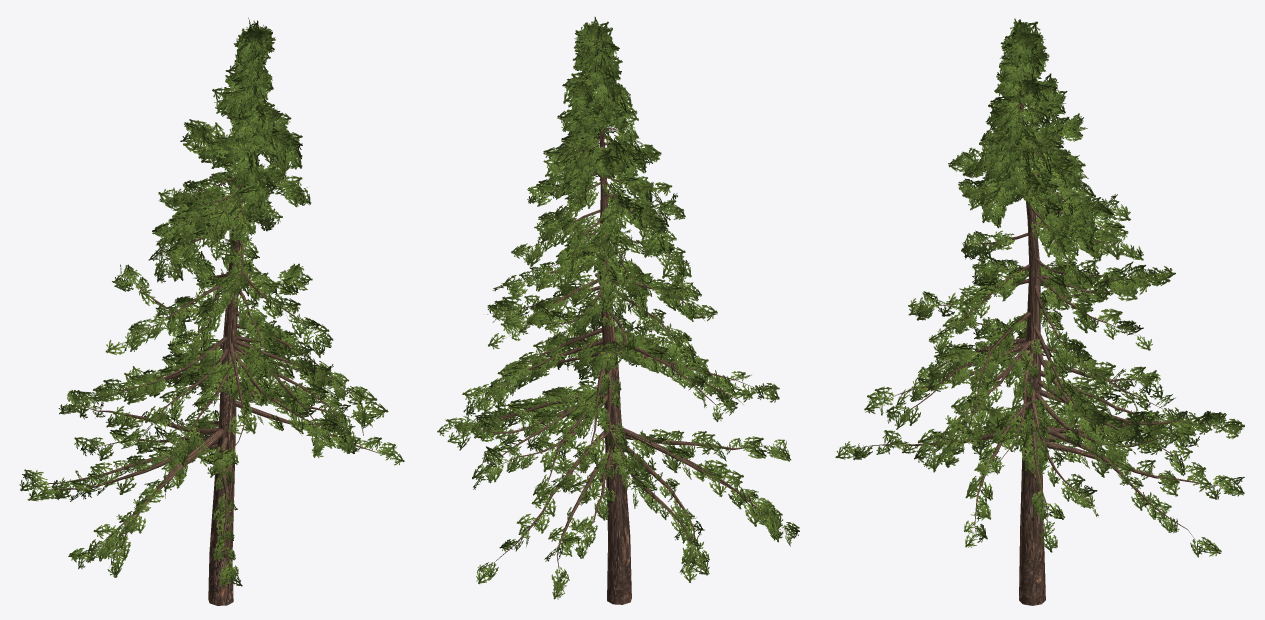
The picture shows the model from 3 angles, left to right: view 1: azimuth 30°, elevation 25°; view 2: azimuth 150°, elevation 25°; view 3: azimuth 270°, elevation 25°; orthographic projection. The views are drawn at different scales.
Parts seen in each view (by area): view 1: branches, branches.001; view 2: branches, branches.001; view 3: branches, branches.001.
Boxes of the visible parts, box(x1,y1,x2,y2) form: branches: box(19, 17, 404, 587); branches.001: box(32, 71, 382, 605); branches: box(437, 17, 799, 599); branches.001: box(450, 86, 782, 604); branches: box(835, 18, 1244, 557); branches.001: box(858, 69, 1222, 605).
Bounding box in the file's own units: 12.15 × 20.08 × 12.71.
2 materials, 2 textured.
